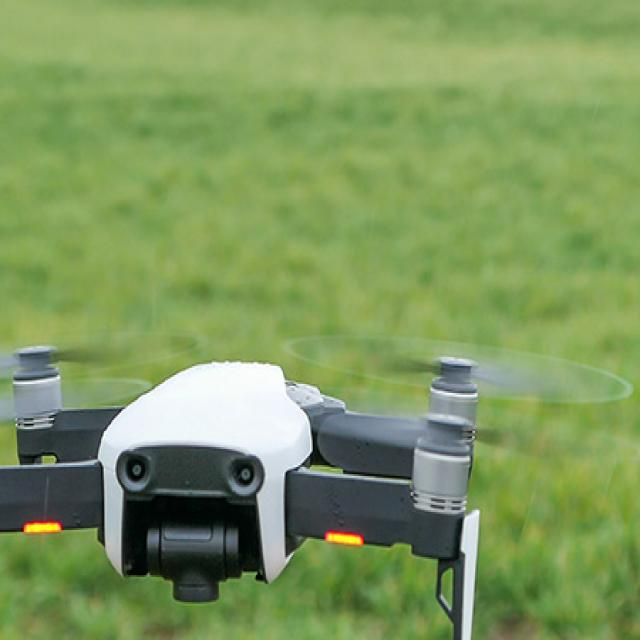drone: (0, 316, 640, 636)
